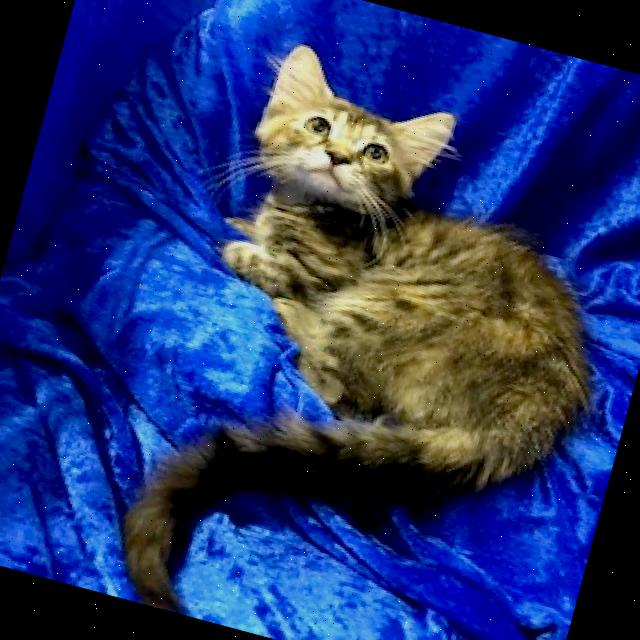maine_coon_cat: (212, 30, 482, 246)
